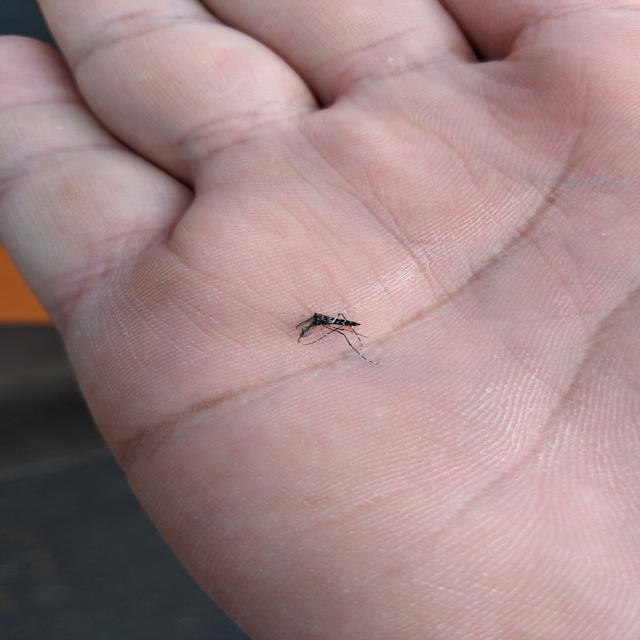albopictus: (286, 306, 383, 366)
